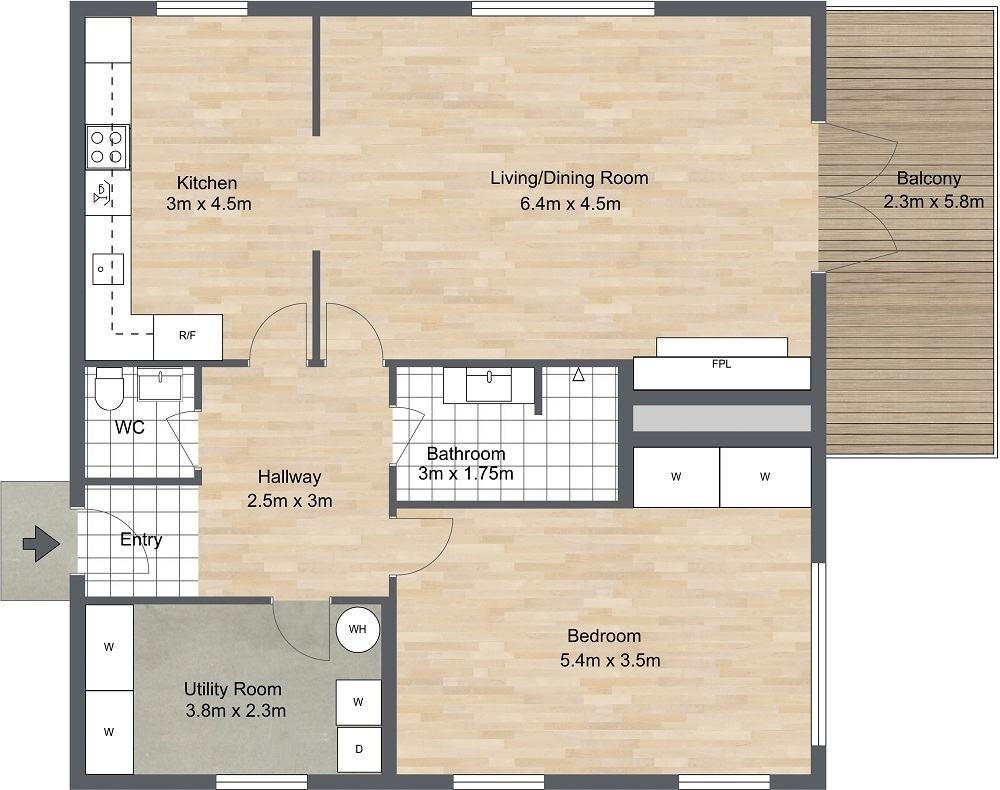balcony: (827, 4, 998, 457)
door: (235, 299, 311, 358), (262, 612, 335, 672), (323, 297, 385, 355), (409, 514, 462, 570), (162, 407, 208, 467), (392, 406, 431, 441)
room: (314, 7, 829, 358), (388, 504, 829, 790), (69, 3, 319, 368), (73, 361, 403, 607), (69, 599, 396, 790), (388, 361, 635, 511)
window: (471, 1, 653, 28), (809, 560, 827, 746), (681, 751, 766, 788), (158, 1, 249, 30), (448, 765, 543, 788), (216, 772, 308, 790)
